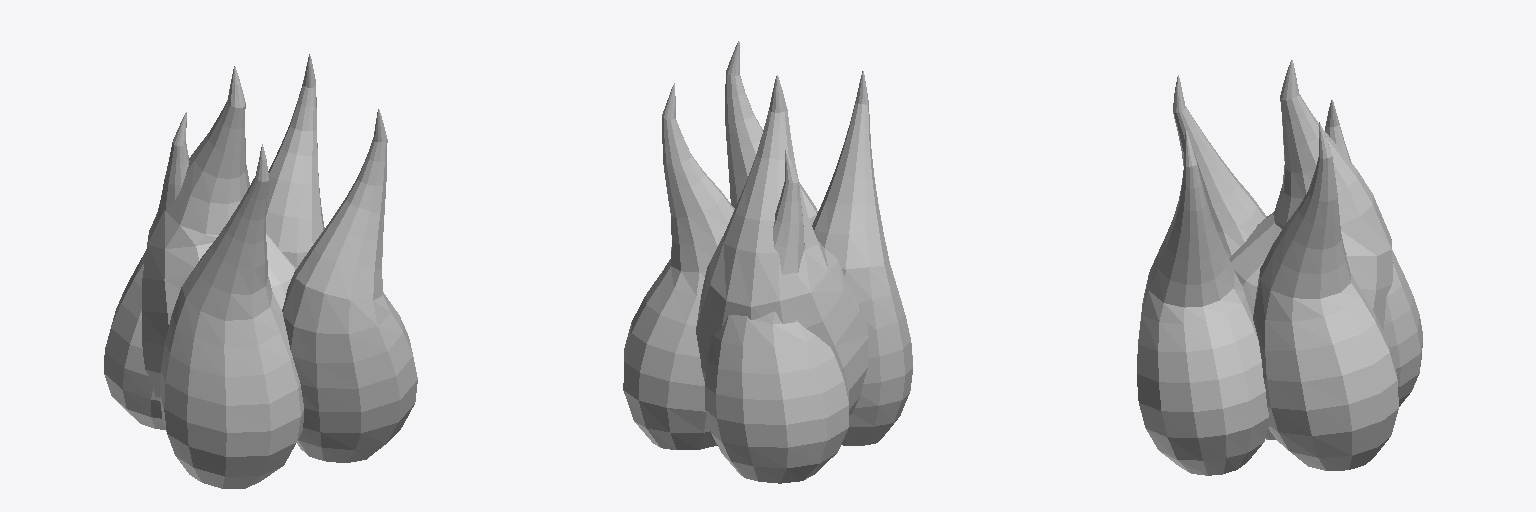
Rendered from fire_000023.obj.
The picture shows the model from 3 angles: view 1: azimuth 30°, elevation 25°; view 2: azimuth 150°, elevation 25°; view 3: azimuth 270°, elevation 25°; orthographic projection.
Parts seen in each view (by area): view 1: flame_NurbsPath.015; view 2: flame_NurbsPath.015; view 3: flame_NurbsPath.015.
Boxes of the visible parts, box(x1,y1,x2,y2) form: flame_NurbsPath.015: box(104, 54, 417, 488); flame_NurbsPath.015: box(623, 41, 912, 483); flame_NurbsPath.015: box(1137, 60, 1422, 475).
Bounding box in the file's own units: 0.7499 × 1.19 × 0.8129.